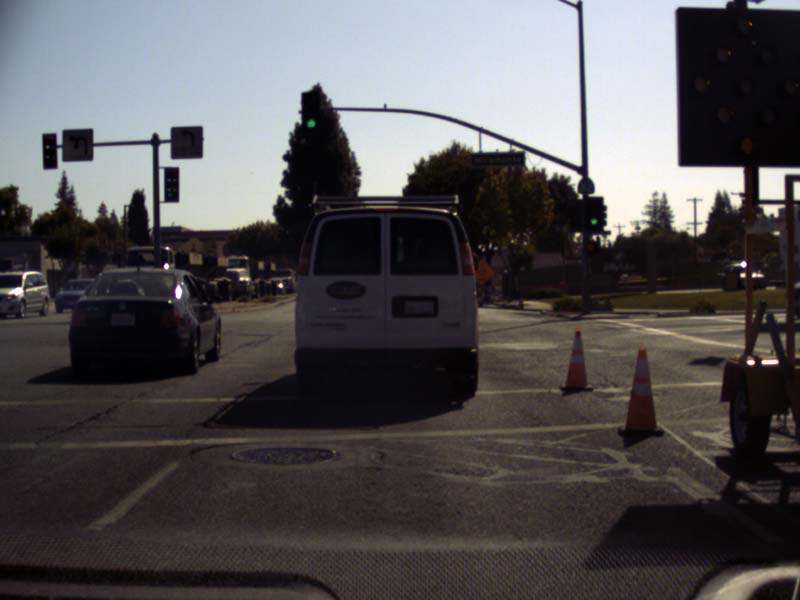Green: (302, 92, 319, 133), (583, 197, 602, 233)
